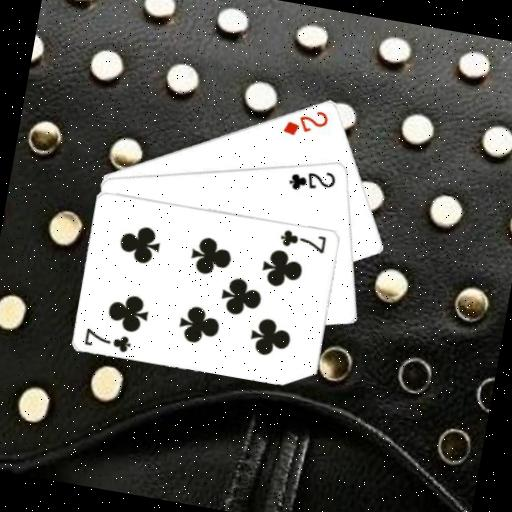2C: (284, 161, 339, 198)
2D: (278, 101, 331, 142)
7C: (276, 225, 329, 255), (81, 324, 134, 354)
